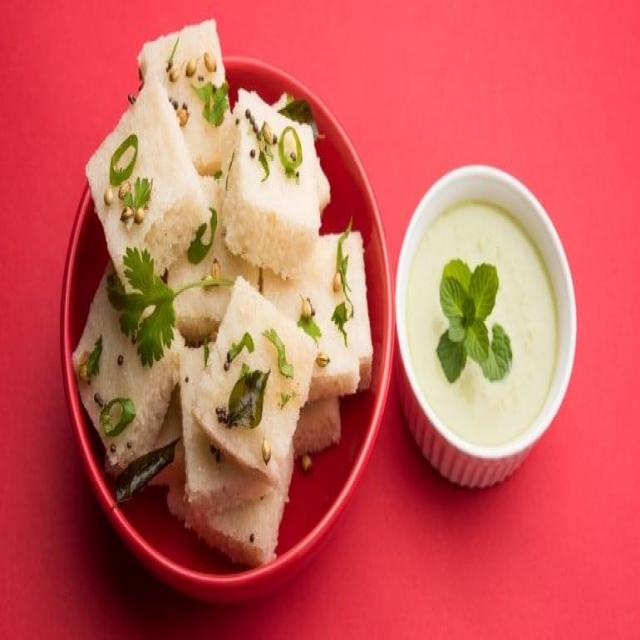dhokla: (75, 18, 373, 558)
